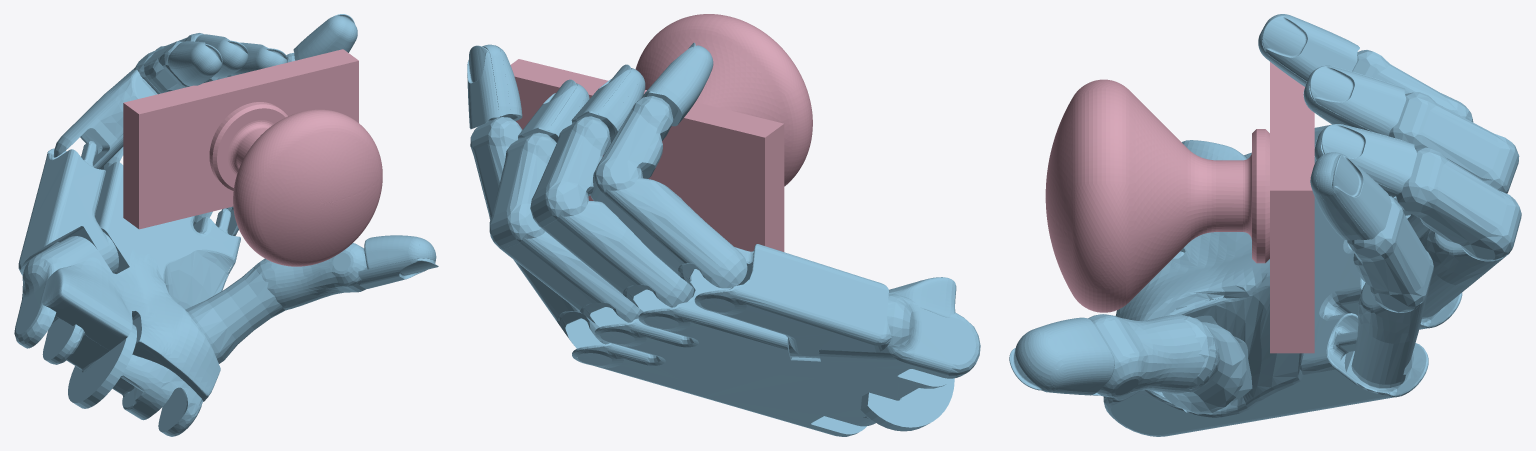
3 renders of one model, left to right at view 1: azimuth 30°, elevation 25°; view 2: azimuth 150°, elevation 25°; view 3: azimuth 270°, elevation 25°, orthographic. The views are drawn at different scales.
Visible parts, largest first — view 1: world; view 2: world; view 3: world.
Part boxes in pixels (<box>): world: <box>14,14,438,436</box>; world: <box>467,14,980,436</box>; world: <box>1009,14,1521,436</box>.
Bounding box in the file's own units: 0.1719 × 0.1461 × 0.1428.
